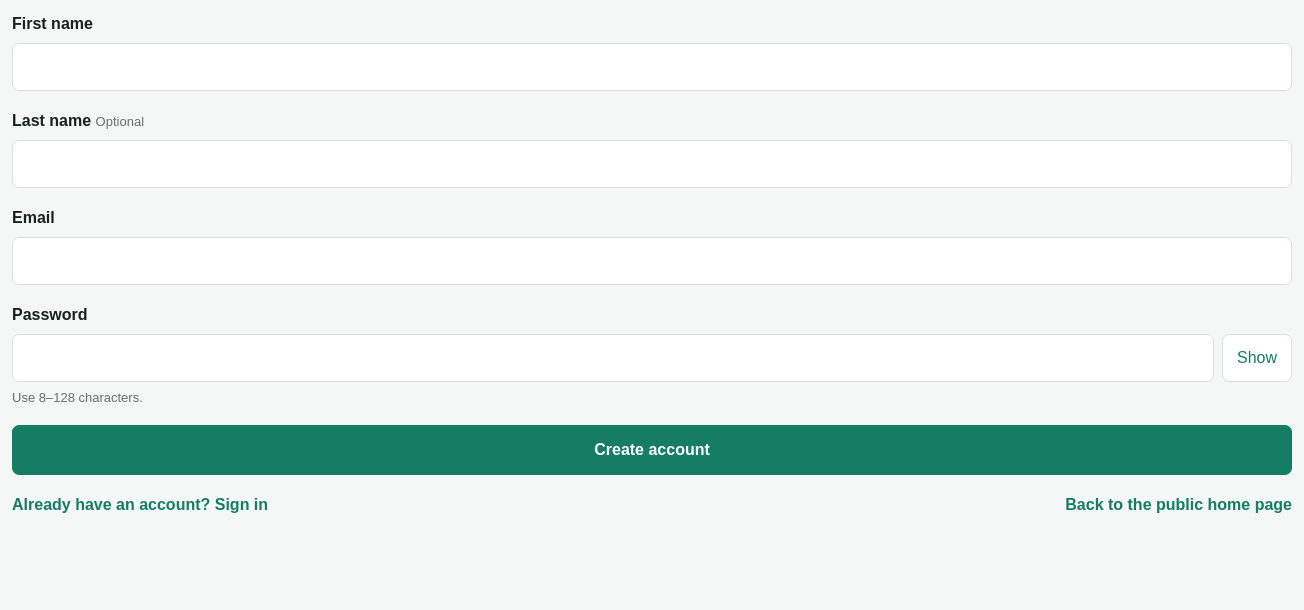
Scenario: RegistrationForm › shows field-level validation errors
The width and height of the screenshot is (1304, 610).
Type "M" into the field labelled "First name".
click(652, 67); type("M")  # box top-left (12, 43), bottom-right (1292, 91)
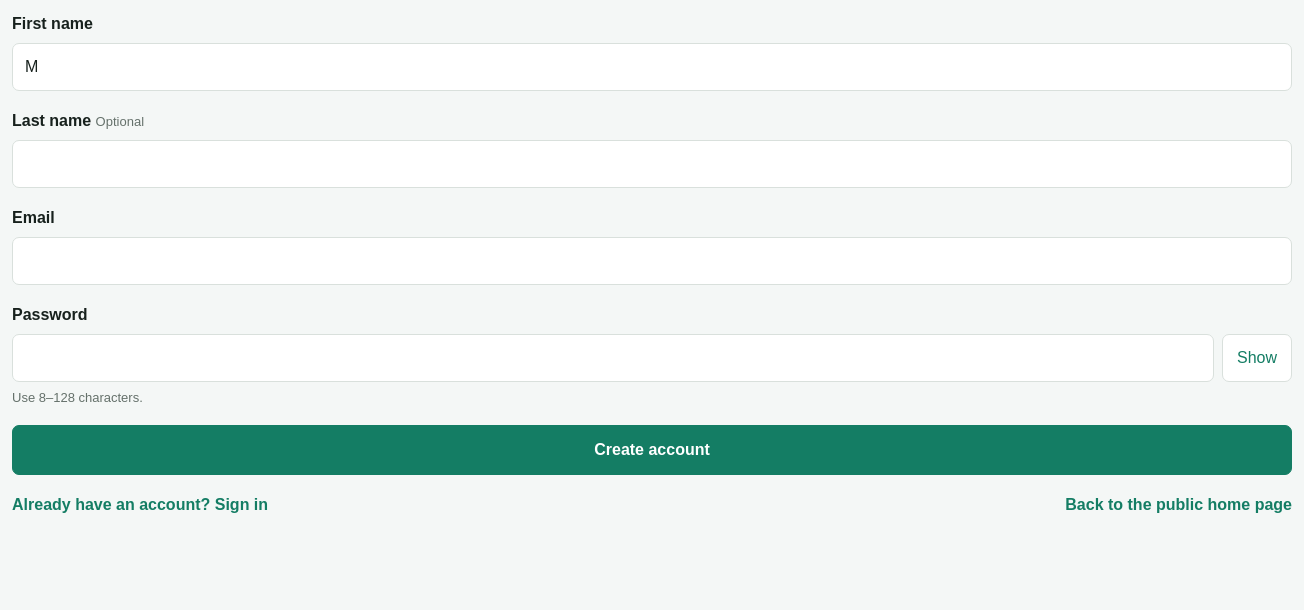
Type "invalid" into the field labelled "Email".
click(652, 261); type("invalid")  # box top-left (12, 237), bottom-right (1292, 285)
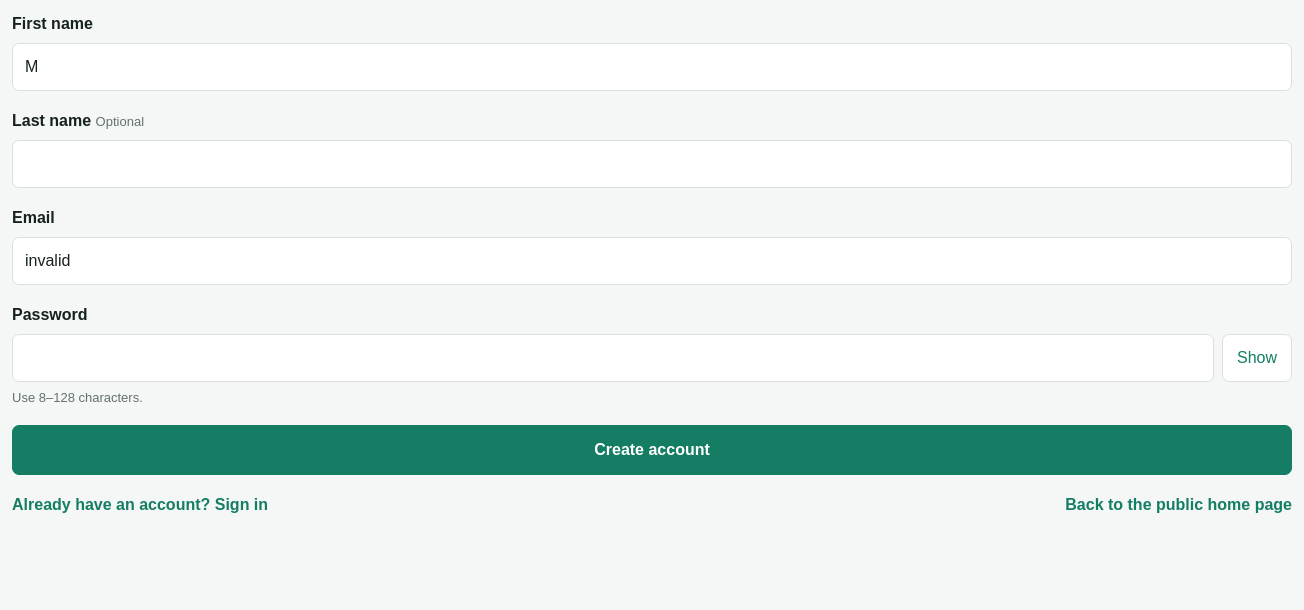
Type "short" into the password field labelled "Password".
click(613, 358); type("short")  # box top-left (12, 334), bottom-right (1214, 382)
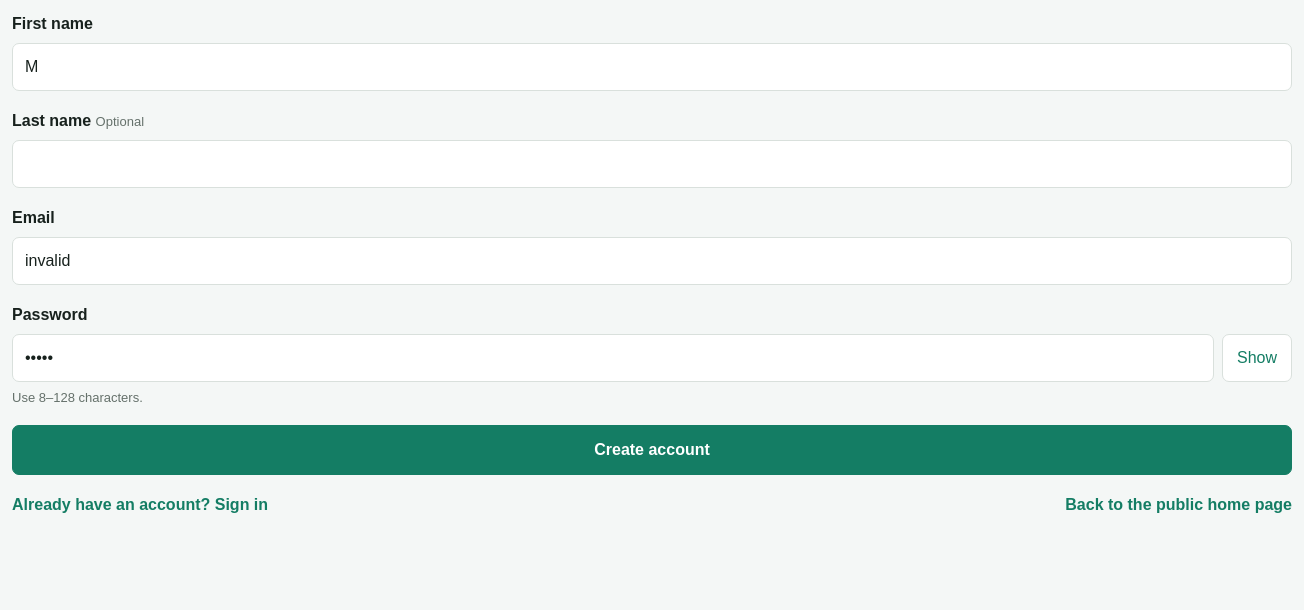
Click the button "Create account".
click(652, 450)  # box top-left (12, 425), bottom-right (1292, 475)
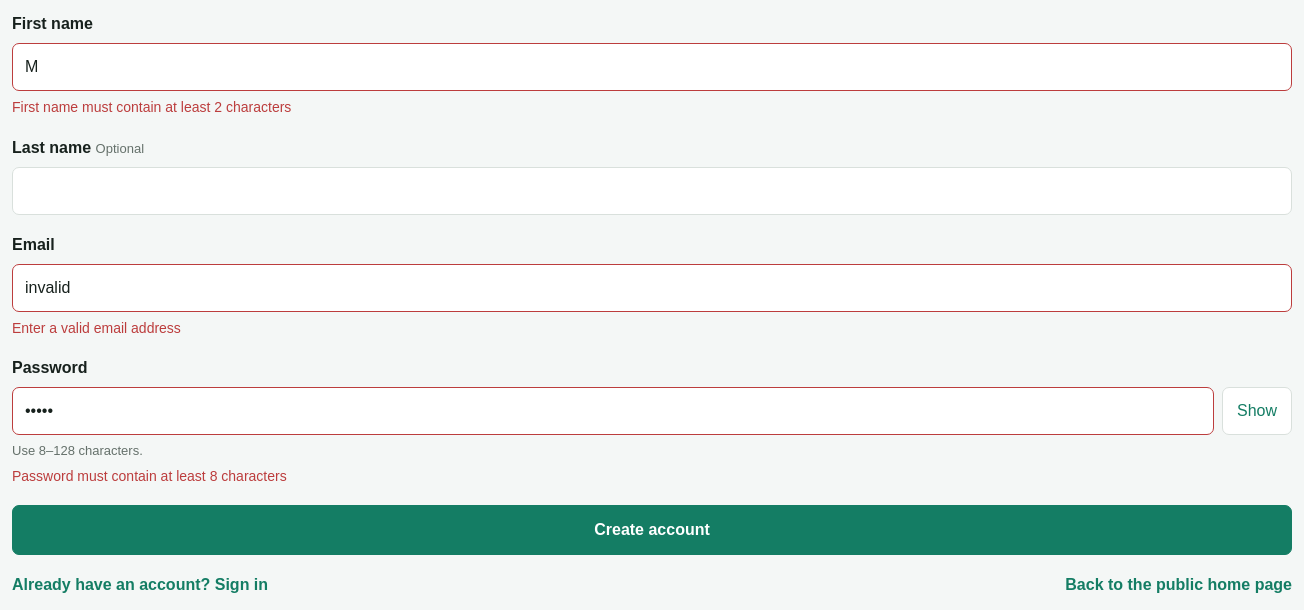
expect the text "First name must contain at least 2 characters" is shown: met, box top-left (12, 99), bottom-right (291, 115)
expect the text "Enter a valid email address" is shown: met, box top-left (12, 320), bottom-right (181, 336)
expect the text "Password must contain at least 8 characters" is shown: met, box top-left (12, 468), bottom-right (287, 484)
